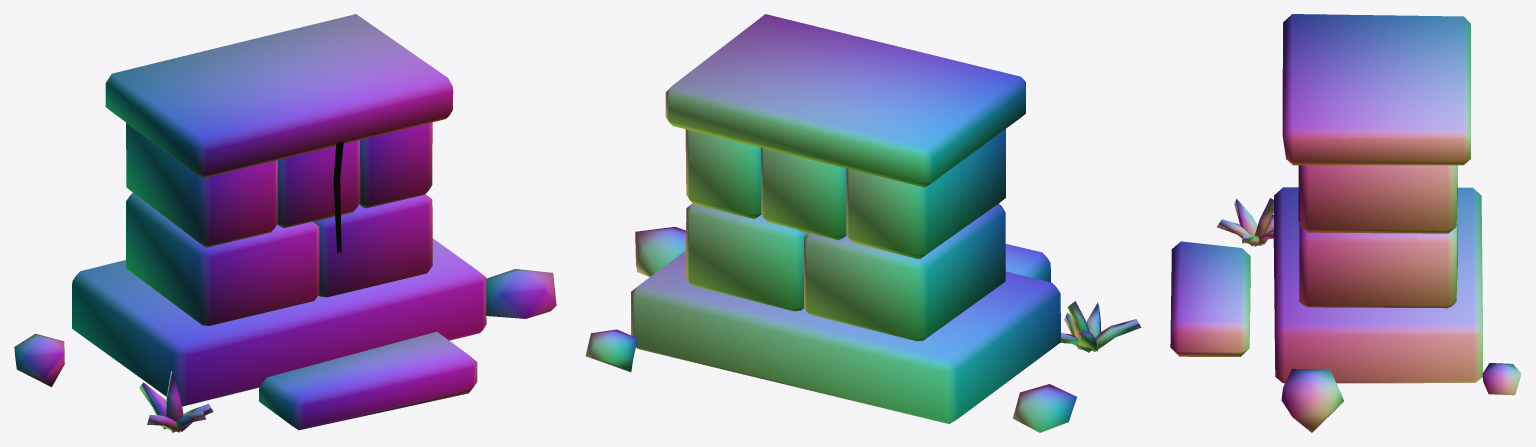
Rendered from SM_Prop_March_PenitentsAltar.fbx.
3 views of the same model, side by side, from view 1: azimuth 30°, elevation 25°; view 2: azimuth 150°, elevation 25°; view 3: azimuth 270°, elevation 25° (orthographic). The views are drawn at different scales.
Parts seen in each view (by area): view 1: SM_Prop_March_PenitentsAltar; view 2: SM_Prop_March_PenitentsAltar; view 3: SM_Prop_March_PenitentsAltar.
Boxes of the visible parts, left/top/right/bottom form: SM_Prop_March_PenitentsAltar: left=14, top=14, right=556, bottom=432; SM_Prop_March_PenitentsAltar: left=585, top=14, right=1141, bottom=432; SM_Prop_March_PenitentsAltar: left=1170, top=14, right=1521, bottom=432.
Bounding box in the file's own units: 1.86 × 1 × 1.26.
